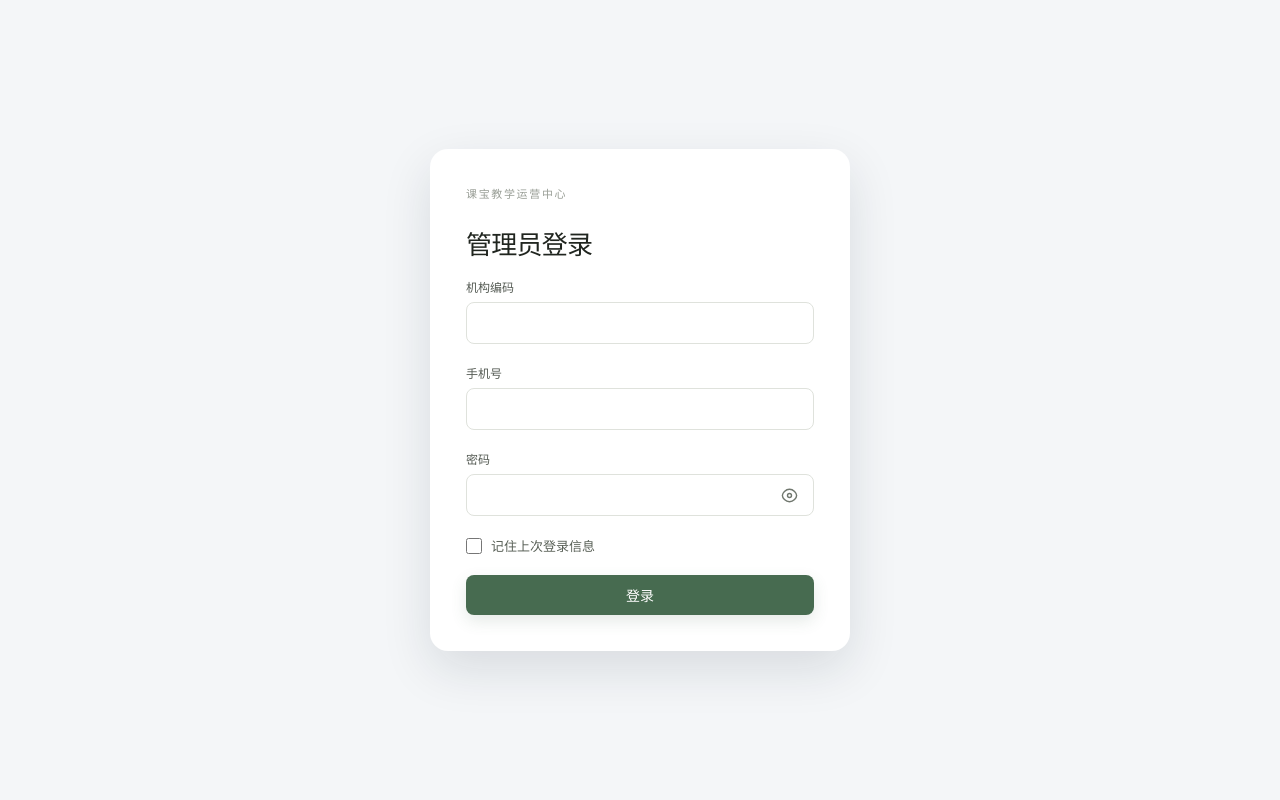
管理后台 › 未勾选记住信息时登录后清空三个输入项
The image size is (1280, 800).
Type "DEMO" into the field labelled "机构编码". click: (640, 323)
box: [466,302,814,344]
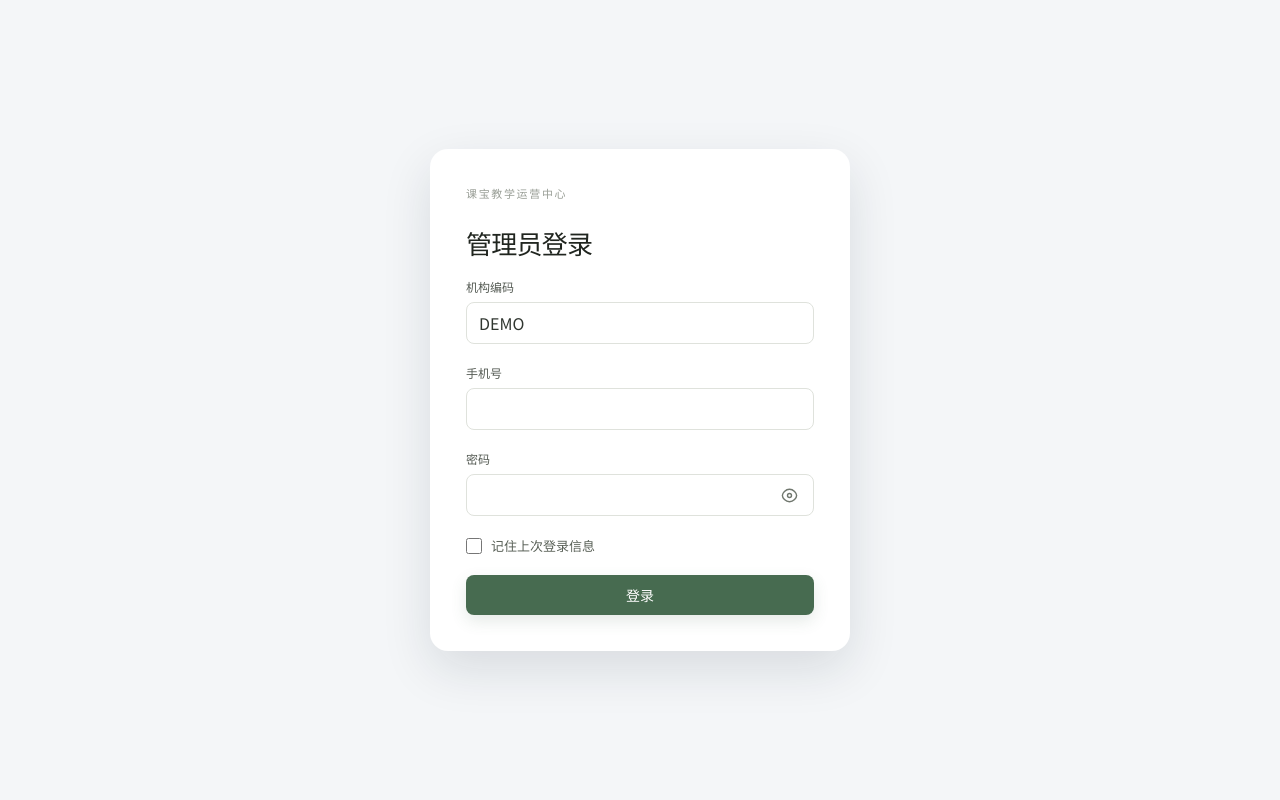
Type "13800000001" into the field labelled "手机号". click: (640, 409)
box: [466,388,814,430]
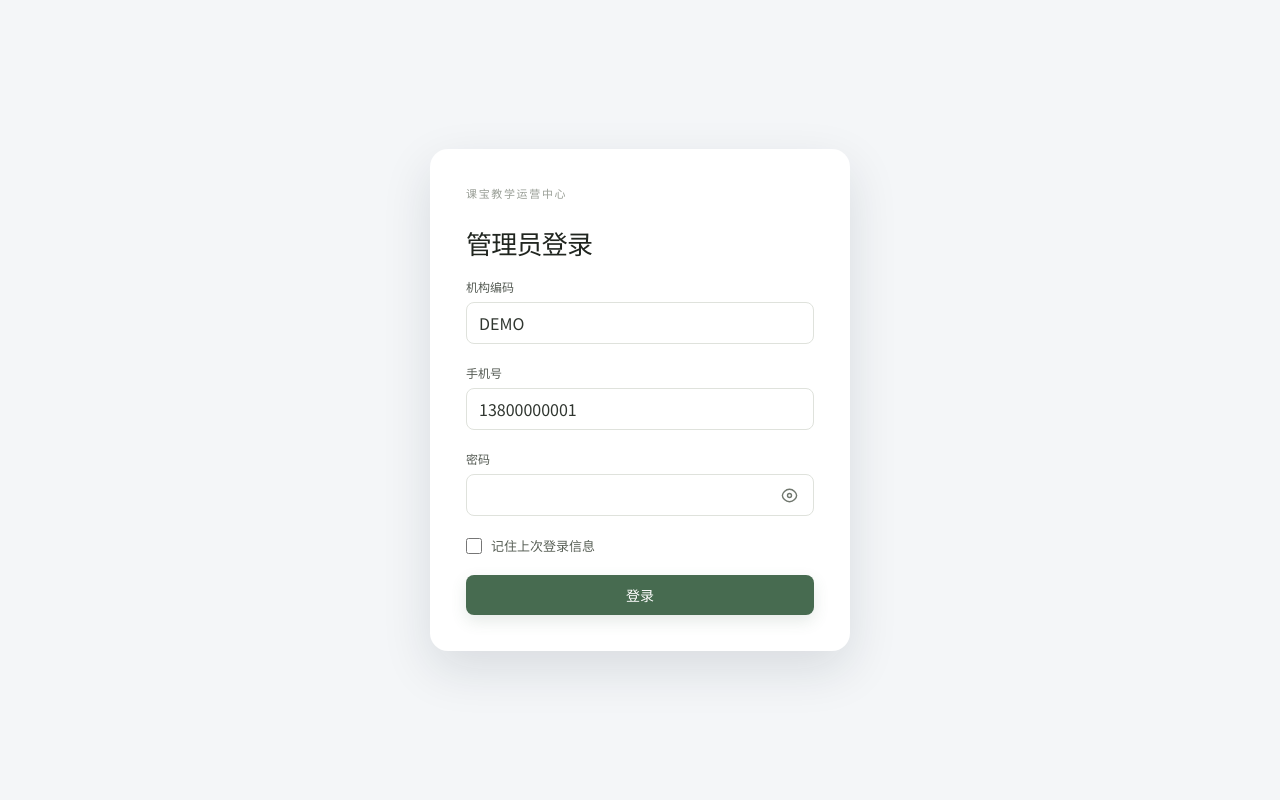
Type "Admin123!" into the password field labelled "密码". click: (640, 495)
box: [466,474,814,516]
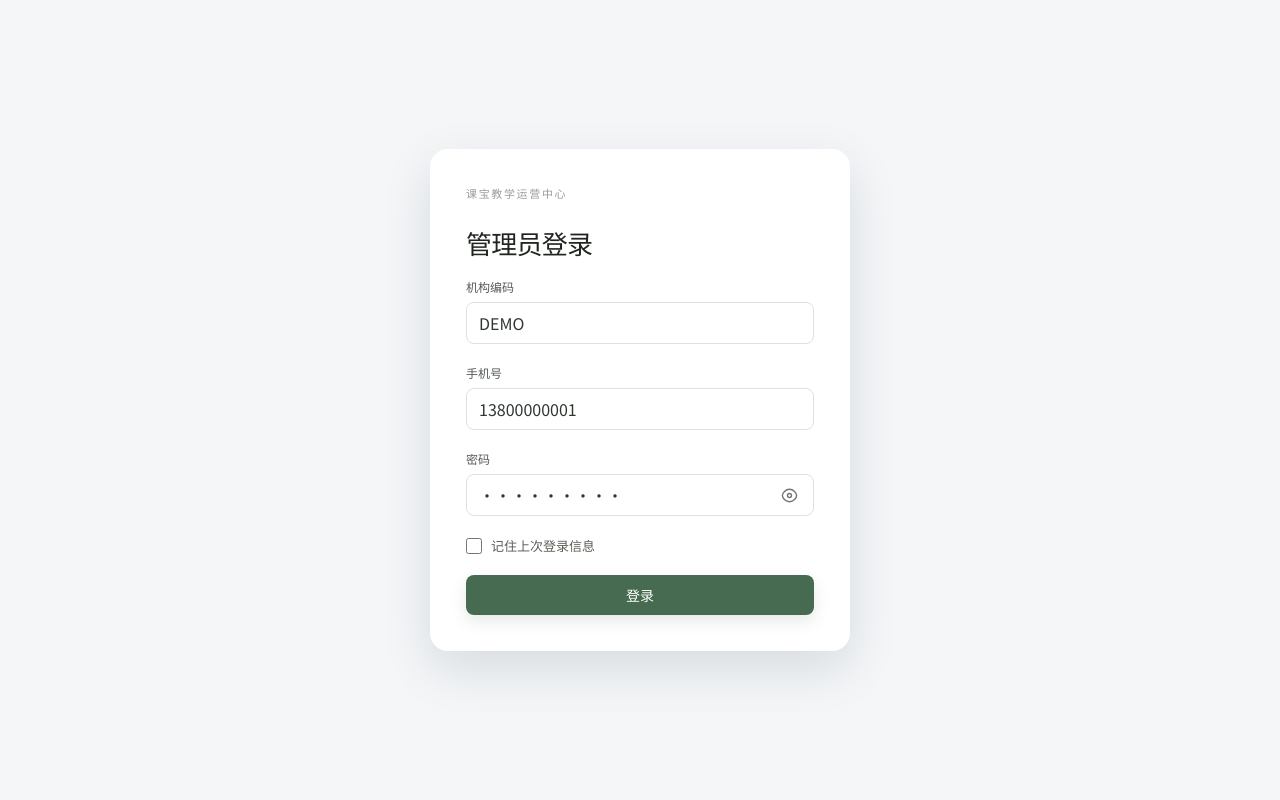
Click the button "登录". click: (640, 595)
box: [466,575,814,615]
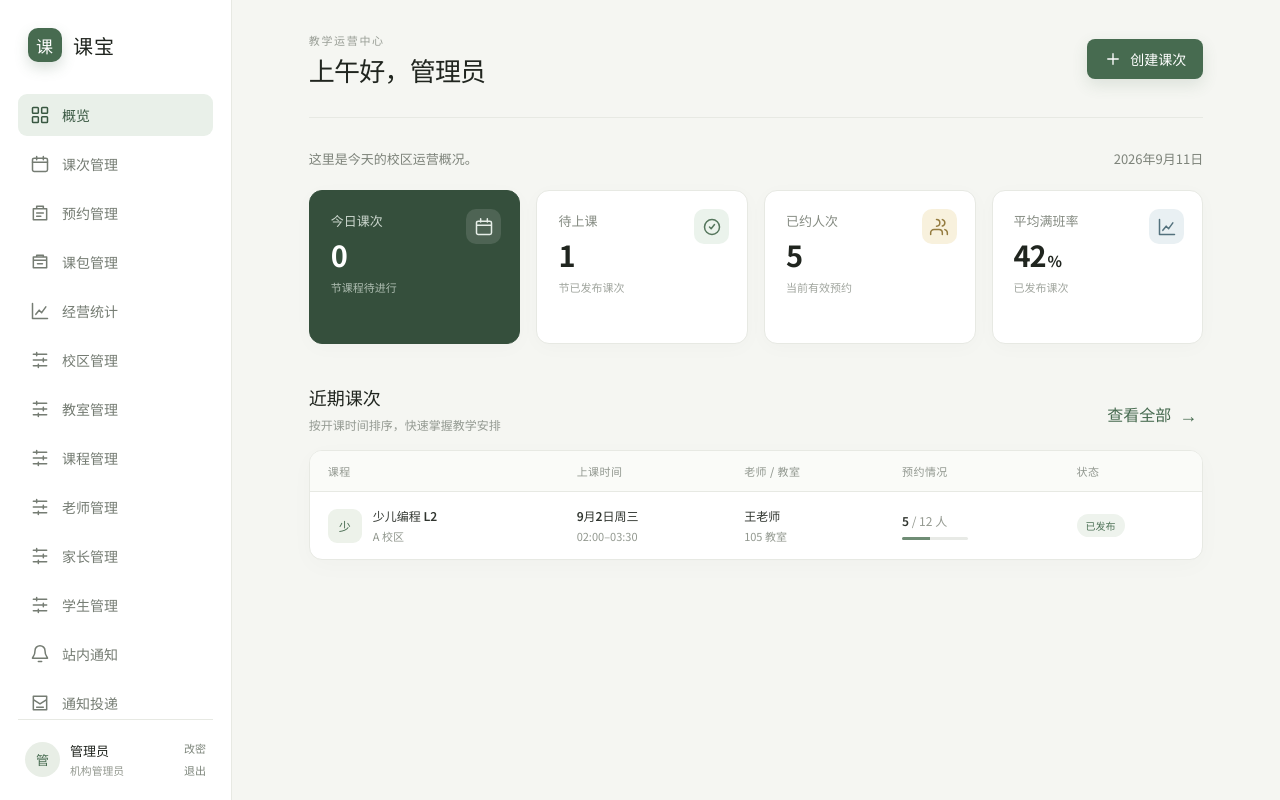
Check: the text "少儿编程 L2" is shown, box [373,507,437,524]
Click the button with aria-label "退出登录". click: (195, 770)
box: [184,760,206,780]
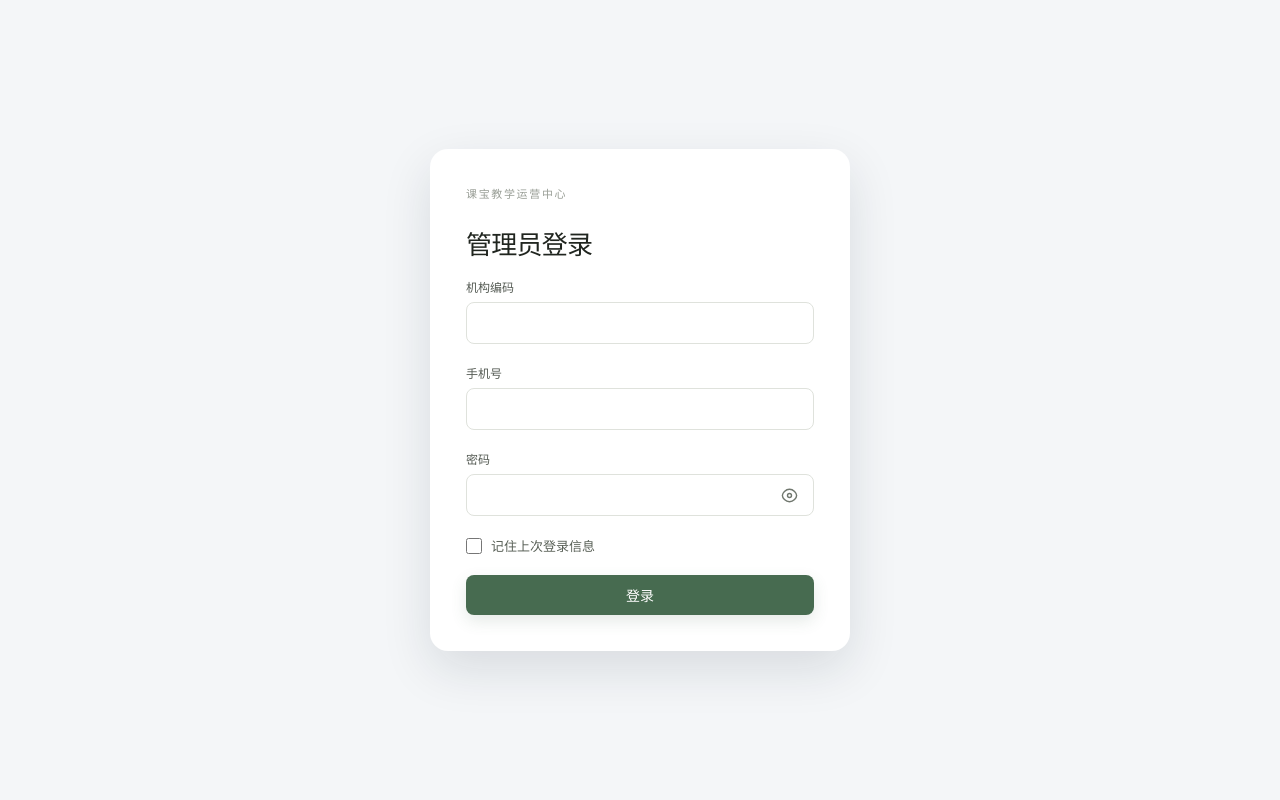
Check: the heading "管理员登录" is shown, box [466,224,592,261]
Check: the field labelled "机构编码" is empty, box [466,302,814,344]
Check: the field labelled "手机号" is empty, box [466,388,814,430]
